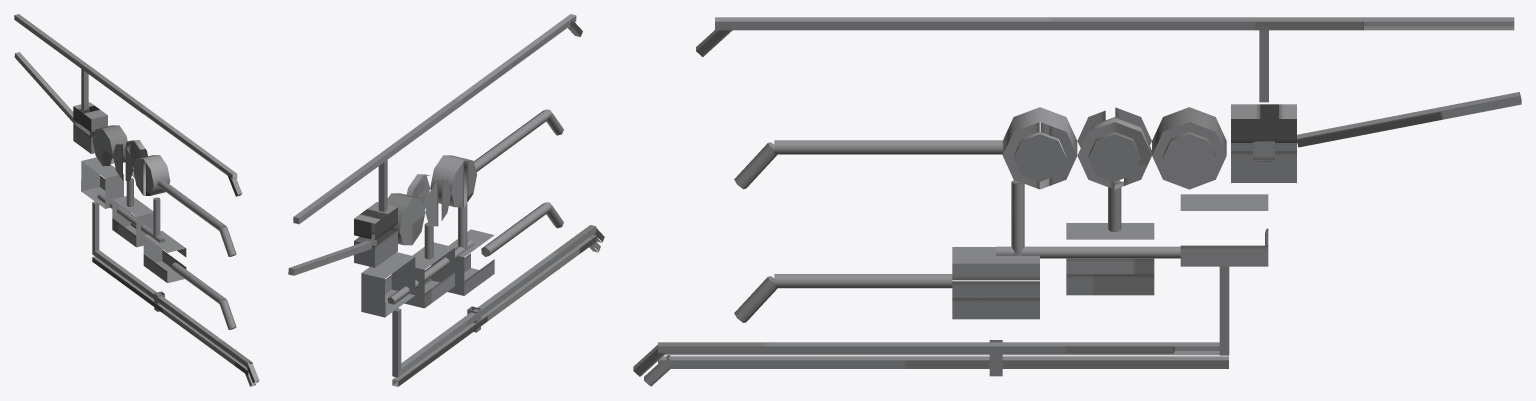
The picture shows the model from 3 angles, left to right: view 1: azimuth 30°, elevation 25°; view 2: azimuth 150°, elevation 25°; view 3: azimuth 270°, elevation 25°; orthographic projection. The views are drawn at different scales.
Bounding box in the file's own units: 0.092 × 0.9268 × 2.02.
